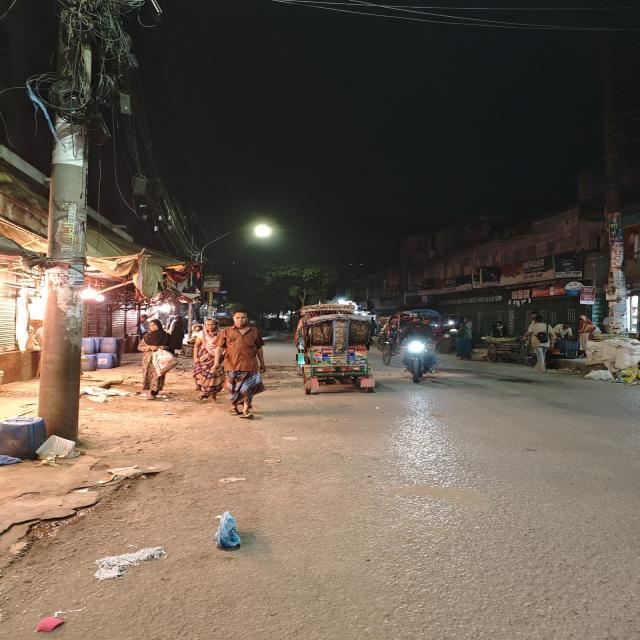motorcycle: (396, 313, 438, 384)
pedestrian: (216, 305, 268, 428), (136, 315, 184, 394), (190, 319, 218, 400), (524, 317, 552, 377)
rickshaw: (293, 303, 378, 396)
